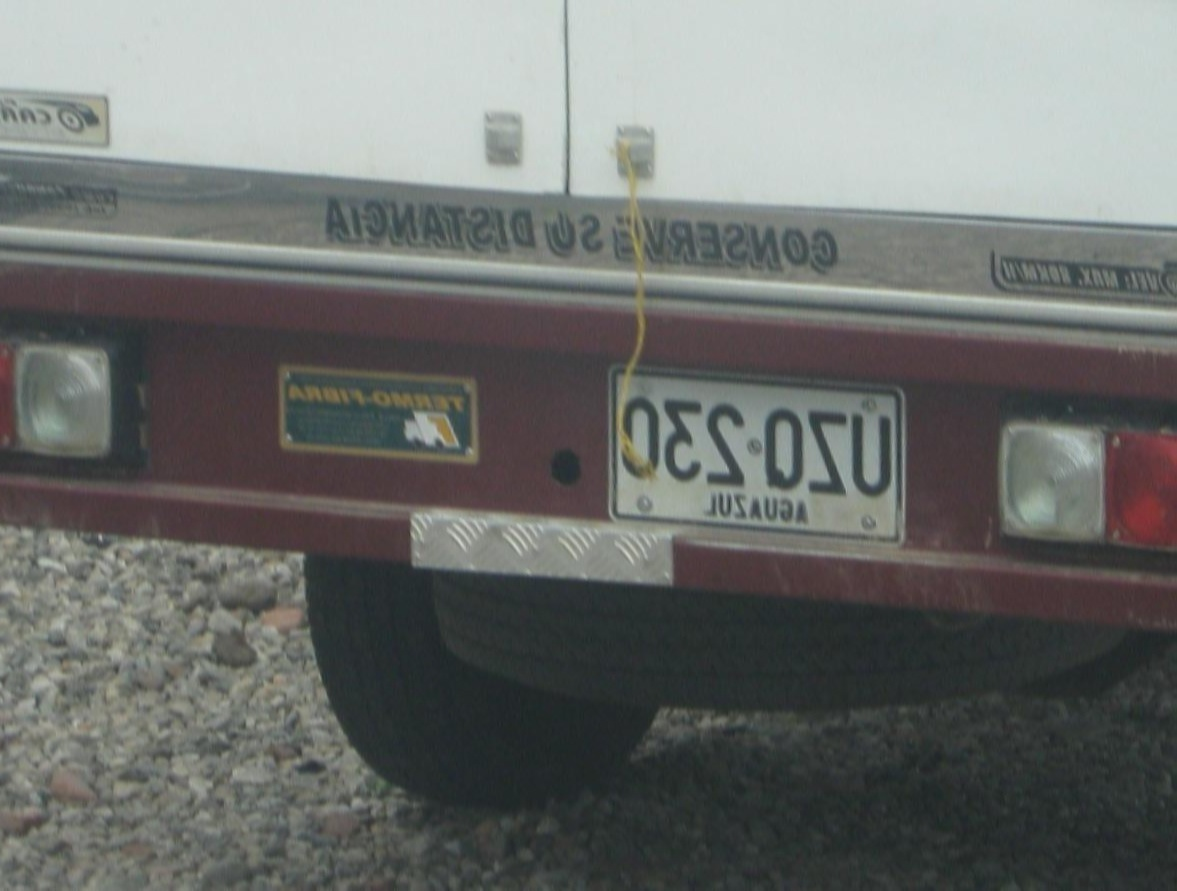placas: (606, 359, 914, 552)
